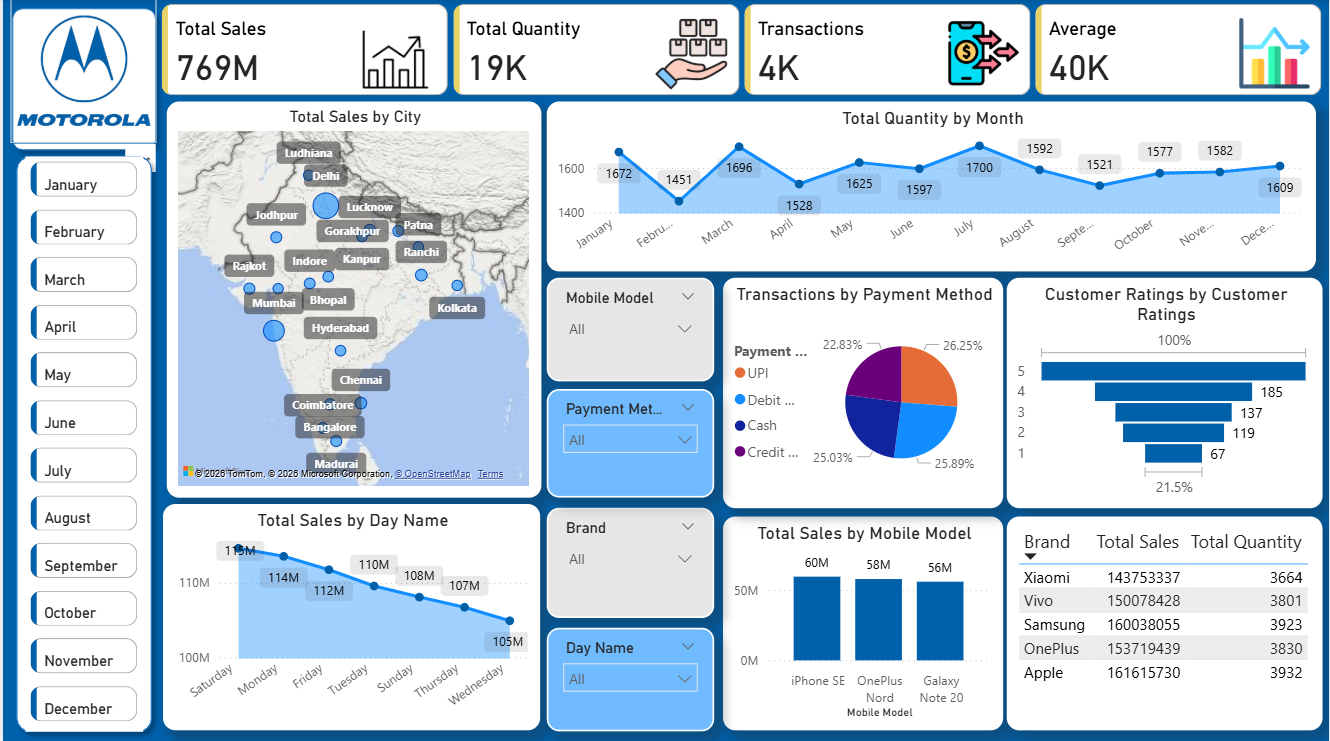

The page's visual inventory and layout, read from the dashboard file:
{"tool":"powerbi","page":{"name":"Page 1","canvas":[1280,720],"ordinal":0},"visuals":[{"type":"shape","box":[0,0,156.7,155],"z":0},{"type":"image","box":[6.7,0,141.7,138.3],"z":1000},{"type":"shape","box":[0,138.3,156.7,581.7],"z":2000},{"type":"advancedSlicerVisual","fields":{"Values":["Sales_Project.Date.Variation.Date Hierarchy.Month"]},"box":[21.7,151.7,113.3,555],"z":3000},{"type":"cardVisual","fields":{"Data":["Sales_Project.Total Sales","Sales_Project.Total Quantity","Sales_Project.Transactions","Sales_Project.Average"]},"box":[148.8,0,1131.2,98.8],"z":4000},{"type":"map","fields":{"Category":["Sales_Project.City"],"Size":["Sales_Project.Total Sales"]},"box":[157.5,98.8,361.2,382.5],"z":5000},{"type":"lineChart","fields":{"Category":["Sales_Project.Date.Variation.Date Hierarchy.Month","Sales_Project.Date.Variation.Date Hierarchy.Day"],"Y":["Sales_Project.Total Quantity"]},"box":[525,98.8,742.5,163.8],"z":6000},{"type":"clusteredColumnChart","fields":{"Category":["Sales_Project.Mobile Model"],"Y":["Sales_Project.Total Sales"]},"box":[695,500,270,206.2],"z":7000},{"type":"pieChart","fields":{"Category":["Sales_Project.Payment Method"],"Y":["Sales_Project.Transactions"]},"box":[695,268.8,270,222.5],"z":8000},{"type":"funnel","fields":{"Y":["CountNonNull(Sales_Project.Customer Ratings)"],"Category":["Sales_Project.Customer Ratings"]},"box":[968.8,268.8,305,222.5],"z":9000},{"type":"areaChart","fields":{"Category":["Sales_Project.Day Name"],"Y":["Sales_Project.Total Sales"]},"box":[155,487.5,363.8,218.8],"z":10000},{"type":"tableEx","fields":{"Values":["Sales_Project.Brand","Sales_Project.Total Sales","Sales_Project.Total Quantity"]},"box":[968.8,500,305,206.2],"z":11000},{"type":"slicer","fields":{"Values":["Sales_Project.Mobile Model"]},"box":[525,268.8,161.2,100],"z":13000},{"type":"slicer","fields":{"Values":["Sales_Project.Brand"]},"box":[525,491.2,161.2,106.2],"z":13001},{"type":"slicer","fields":{"Values":["Sales_Project.Payment Method"]},"box":[525,376.2,161.2,105],"z":13002},{"type":"slicer","fields":{"Values":["Sales_Project.Day Name"]},"box":[525,606.2,161.2,100],"z":13003}]}

Visuals, with their boxes in screenshot pixels (x1, y1, x2, y2), scaled from the page's 1280x720 canvas onto the 1330x741 screenshot:
shape: pyautogui.locateOnScreen(0, 0, 163, 160)
image: pyautogui.locateOnScreen(7, 0, 154, 142)
shape: pyautogui.locateOnScreen(0, 142, 163, 740)
advancedSlicerVisual - Sales_Project.Date.Variation.Date Hierarchy.Month: pyautogui.locateOnScreen(23, 156, 140, 727)
cardVisual - Sales_Project.Total Sales x Sales_Project.Total Quantity: pyautogui.locateOnScreen(155, 0, 1329, 102)
map - Sales_Project.City x Sales_Project.Total Sales: pyautogui.locateOnScreen(164, 102, 539, 495)
lineChart - Sales_Project.Date.Variation.Date Hierarchy.Month x Sales_Project.Date.Variation.Date Hierarchy.Day: pyautogui.locateOnScreen(546, 102, 1317, 270)
clusteredColumnChart - Sales_Project.Mobile Model x Sales_Project.Total Sales: pyautogui.locateOnScreen(722, 515, 1003, 727)
pieChart - Sales_Project.Payment Method x Sales_Project.Transactions: pyautogui.locateOnScreen(722, 277, 1003, 506)
funnel - CountNonNull(Sales_Project.Customer Ratings) x Sales_Project.Customer Ratings: pyautogui.locateOnScreen(1007, 277, 1324, 506)
areaChart - Sales_Project.Day Name x Sales_Project.Total Sales: pyautogui.locateOnScreen(161, 502, 539, 727)
tableEx - Sales_Project.Brand x Sales_Project.Total Sales: pyautogui.locateOnScreen(1007, 515, 1324, 727)
slicer - Sales_Project.Mobile Model: pyautogui.locateOnScreen(546, 277, 713, 380)
slicer - Sales_Project.Brand: pyautogui.locateOnScreen(546, 506, 713, 615)
slicer - Sales_Project.Payment Method: pyautogui.locateOnScreen(546, 387, 713, 495)
slicer - Sales_Project.Day Name: pyautogui.locateOnScreen(546, 624, 713, 727)
